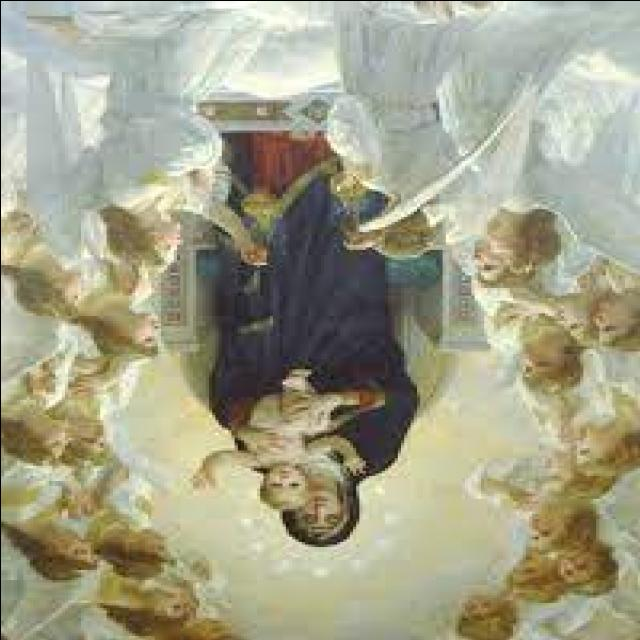mother of god: (199, 159, 427, 549)
